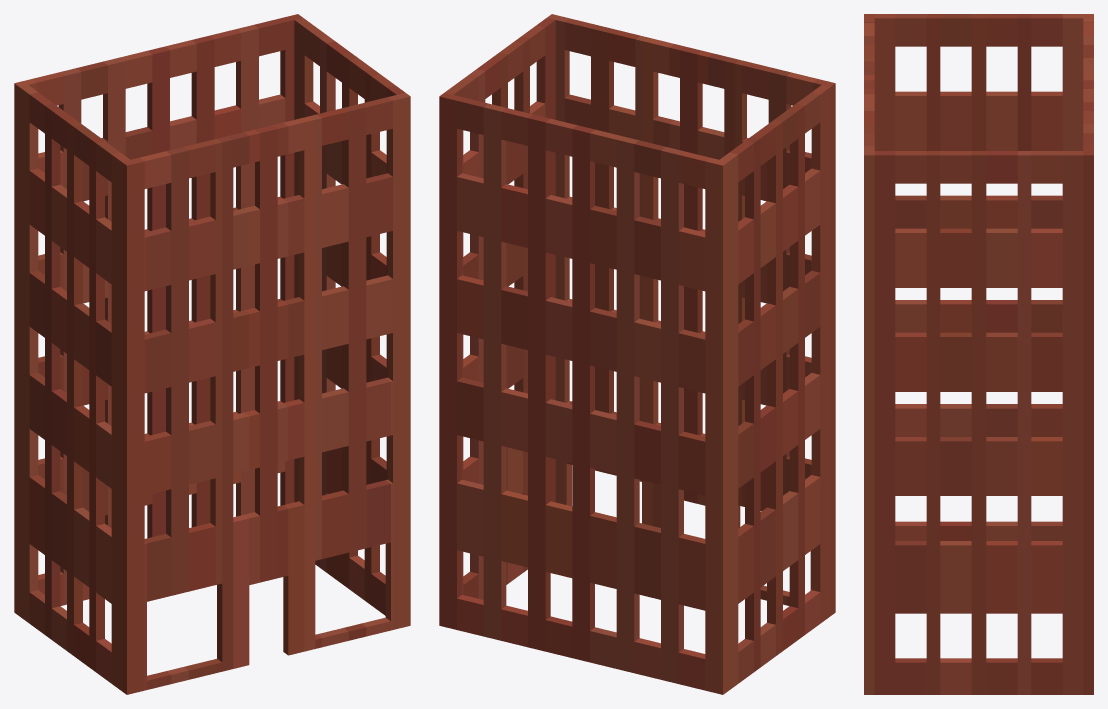
File: Apartment_Walls.glb
3 views of the same model, side by side, from view 1: azimuth 30°, elevation 25°; view 2: azimuth 150°, elevation 25°; view 3: azimuth 270°, elevation 25° (orthographic).
Visible parts, largest first — view 1: Apartment_Walls; view 2: Apartment_Walls; view 3: Apartment_Walls.
Boxes of the visible parts, bbox=[...] form: Apartment_Walls: bbox=[14, 14, 410, 694]; Apartment_Walls: bbox=[439, 14, 835, 694]; Apartment_Walls: bbox=[864, 14, 1093, 694].
Size of the model in its own units: 32 by 57 by 22.
